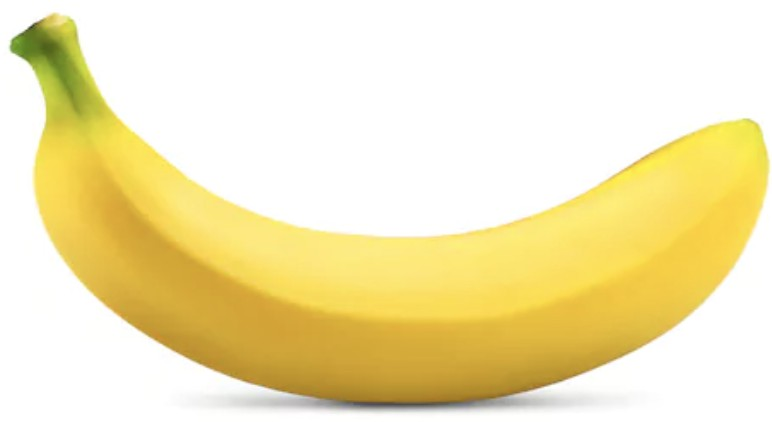fresh_banana: (9, 12, 768, 403)
